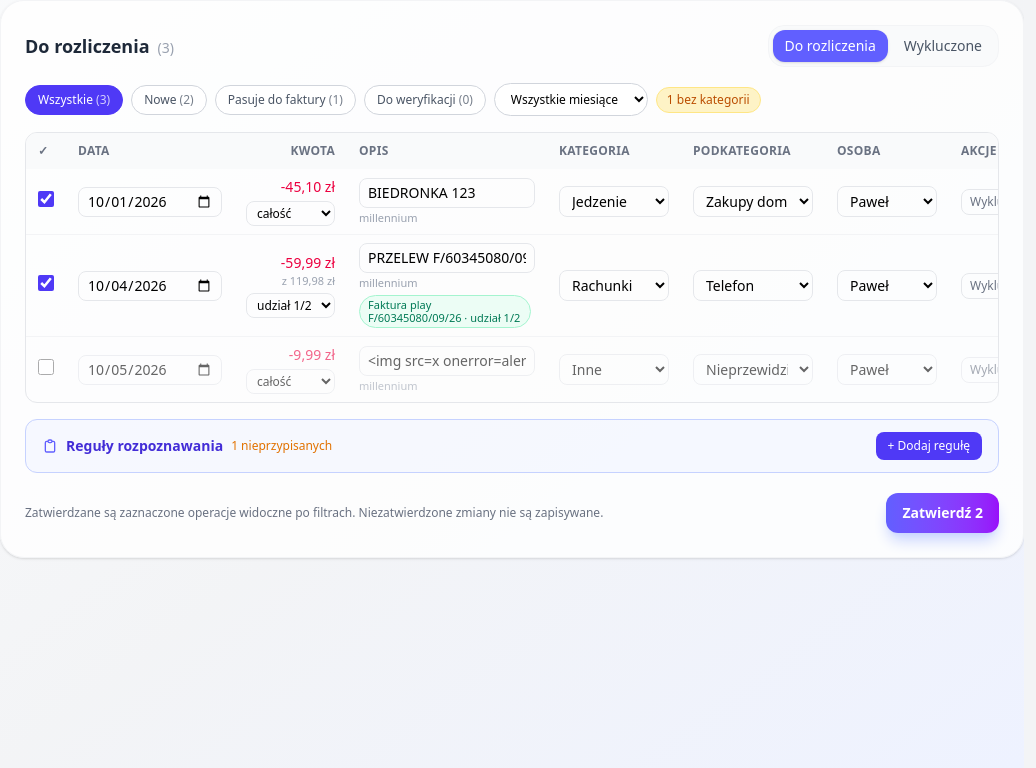
Scenario: Kolejka — zatwierdzanie › pominieta (zatwierdzone na innym urządzeniu) — toast, bez błędu, lista odświeżona
This screenshot has width=1036, height=768.
Expected: the tab "Wszystkie (3)" is shown, [25,84,123,114]
Click the button "Zatwierdź 2". click: (943,513)
box: [886,493,999,533]
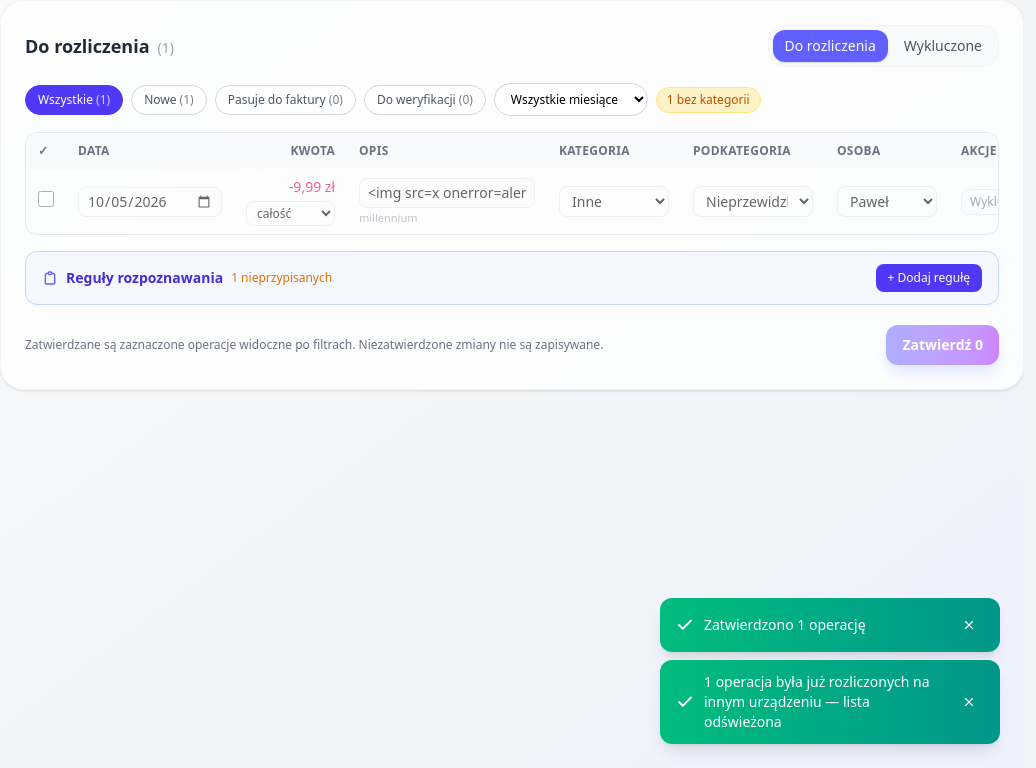
Expected: the text "już rozliczonych na innym urządzeniu" is shown, [704,672,930,731]
Expected: the text showing "F/60345080" is gone
